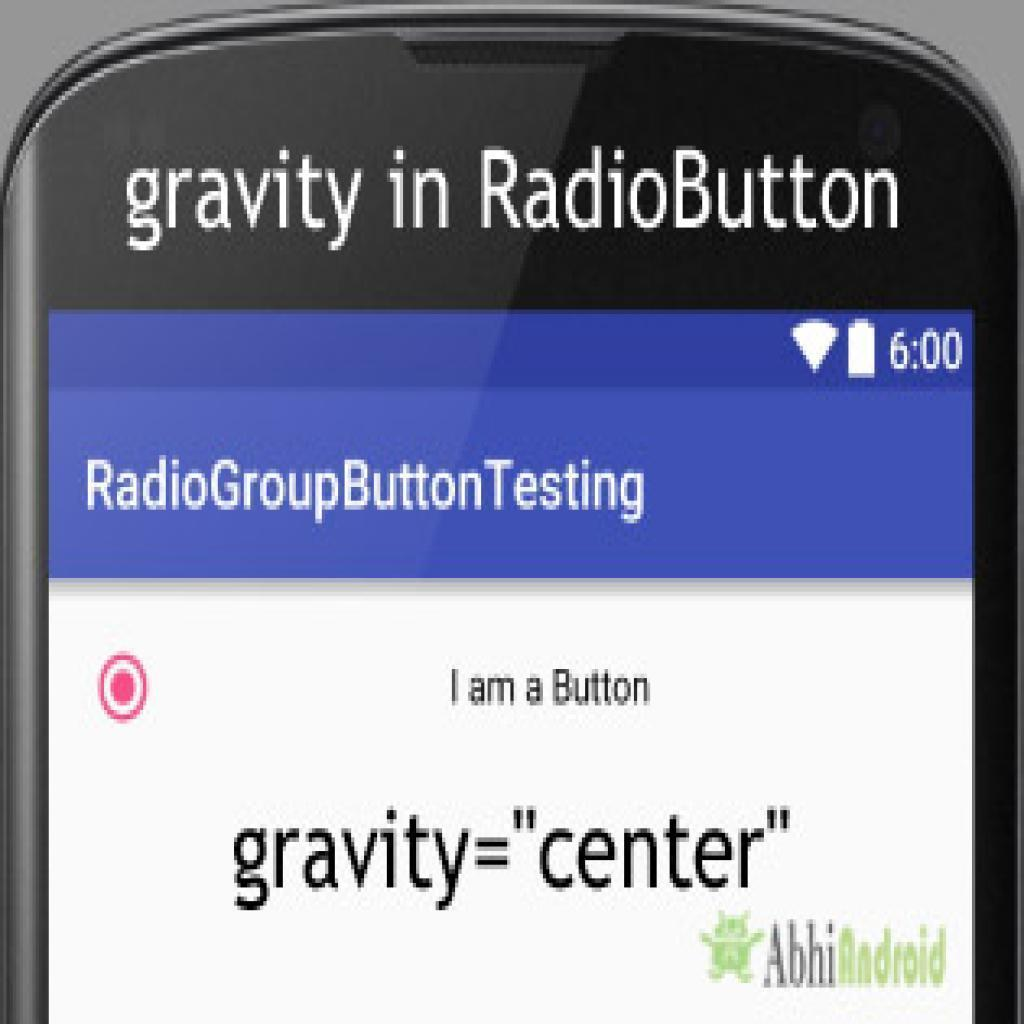radio: (88, 643, 160, 728)
